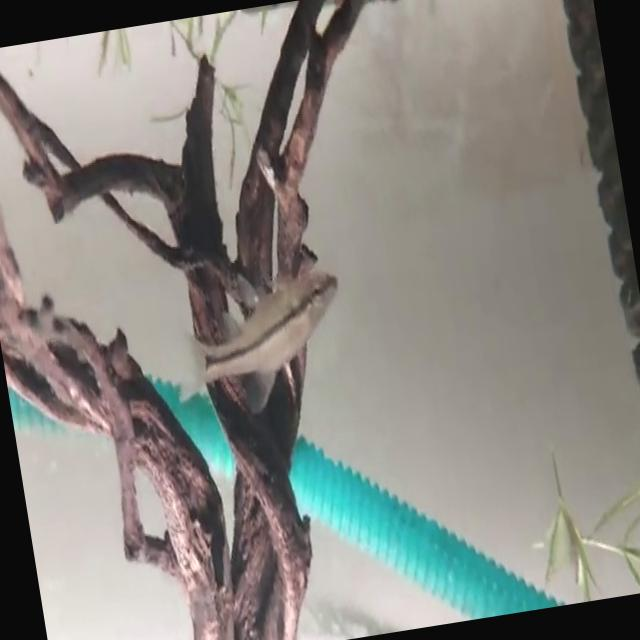Cakil Baligi: (158, 251, 358, 425)
